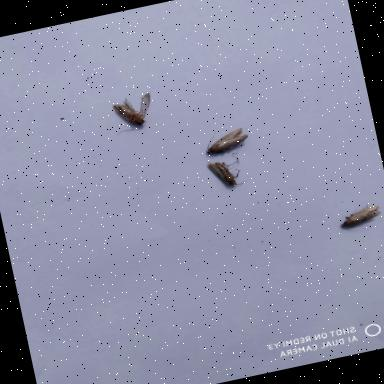pbw: (102, 89, 164, 140), (200, 152, 254, 198), (195, 121, 256, 160), (332, 199, 384, 237)
